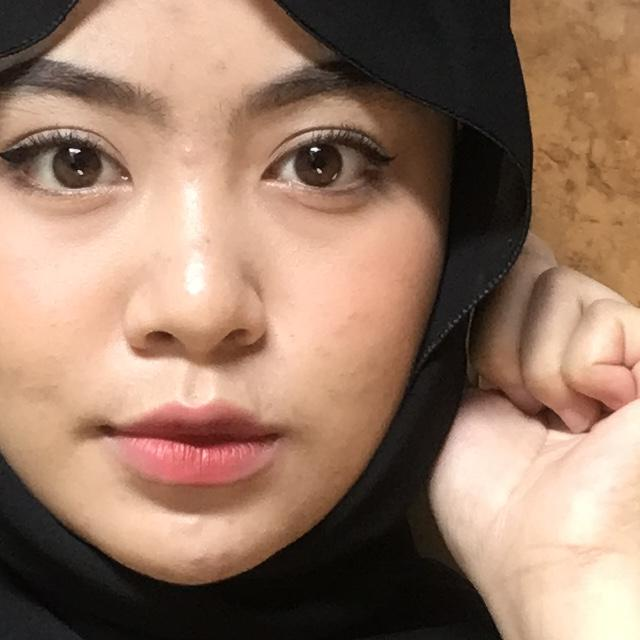ibu: (330, 196, 640, 640)
